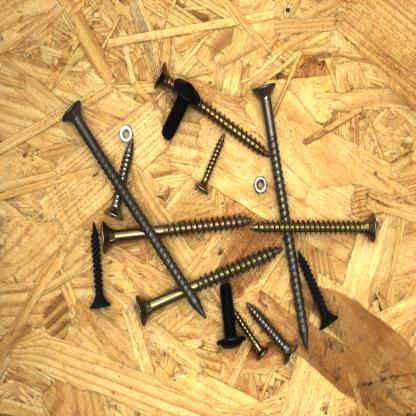screw: (59, 97, 209, 322), (250, 80, 312, 354), (132, 243, 286, 329), (152, 59, 274, 162), (98, 212, 256, 257), (246, 208, 380, 246), (295, 245, 341, 333), (244, 298, 301, 368), (101, 136, 136, 224), (160, 75, 204, 142), (210, 278, 249, 351), (87, 219, 113, 314), (194, 131, 230, 197)
